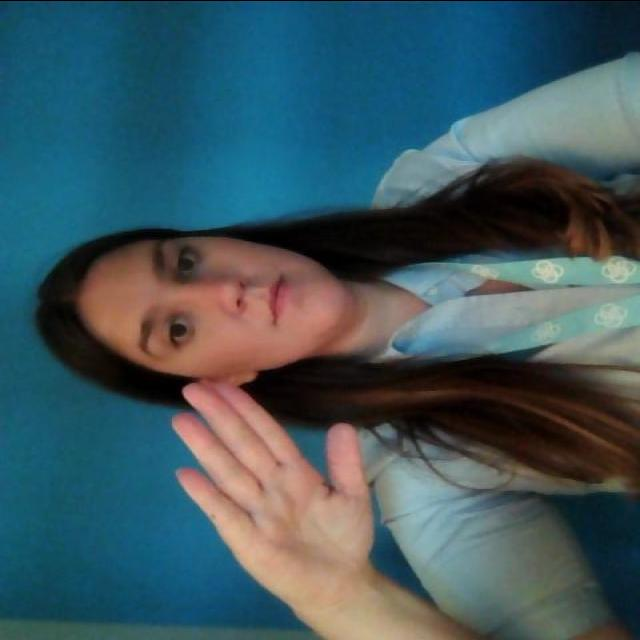Paper: (159, 366, 389, 568)
